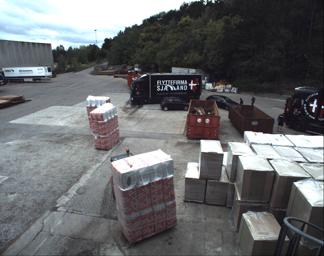rockwool_batts: (112, 148, 176, 242), (90, 101, 119, 149), (83, 93, 109, 124)
